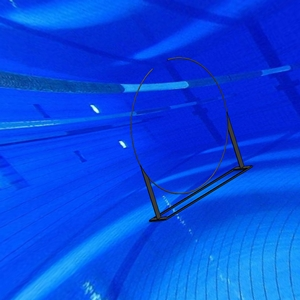circle: (129, 55, 252, 223)
